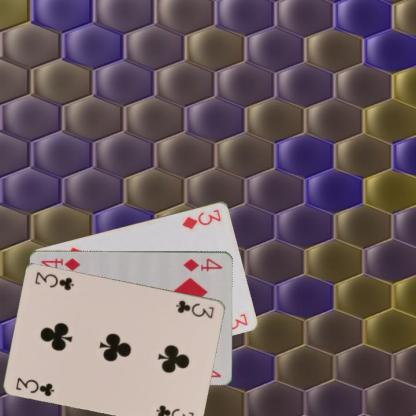3c: (13, 375, 56, 398), (174, 297, 216, 319)
3d: (180, 206, 223, 231)
4d: (180, 255, 224, 273)
